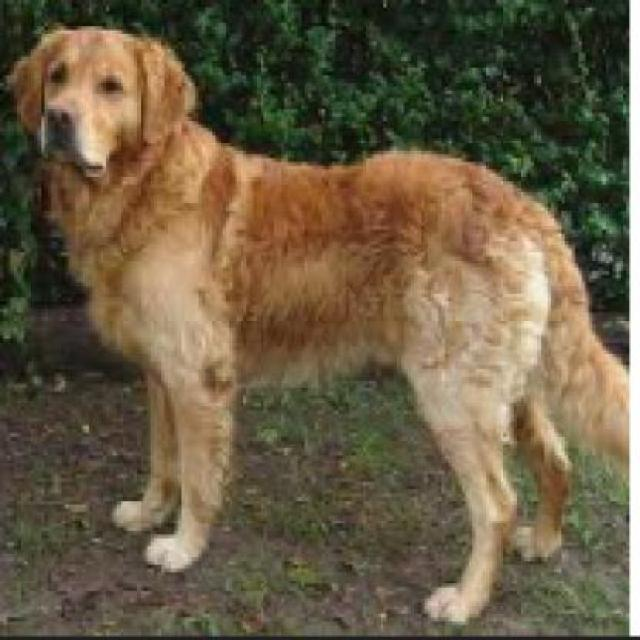Dog: (8, 25, 626, 626)
